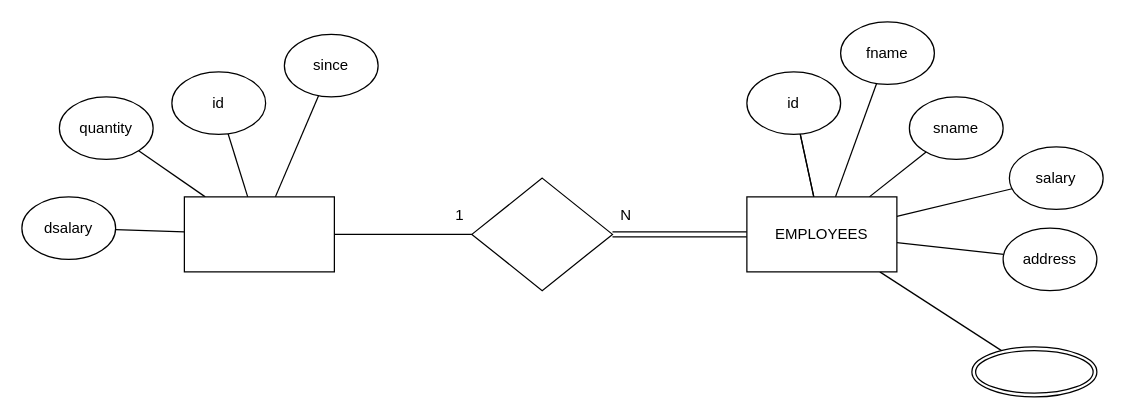
Image size: 1125x419. Some labels were removed from this diagram. Each missing label, with the box of its shape:
DEPARTMENT: (183, 196, 334, 272)
Phone: (971, 346, 1097, 397)
WORKS IN: (471, 177, 612, 291)
